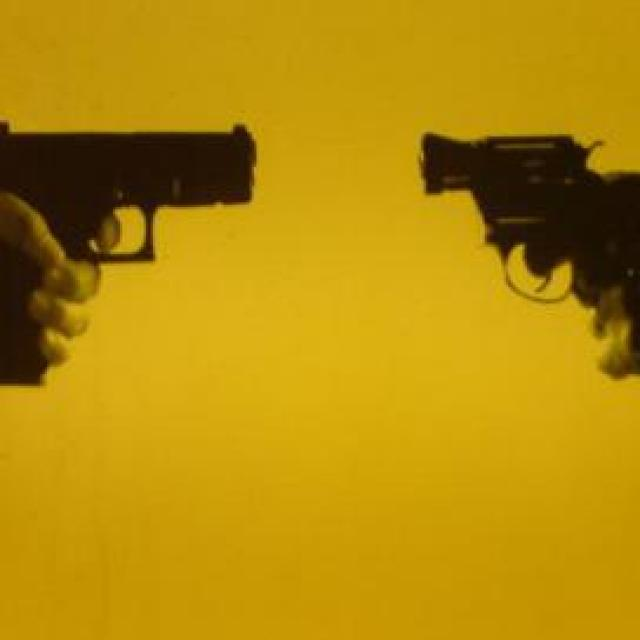pistol: (0, 122, 259, 386), (416, 127, 640, 381)
